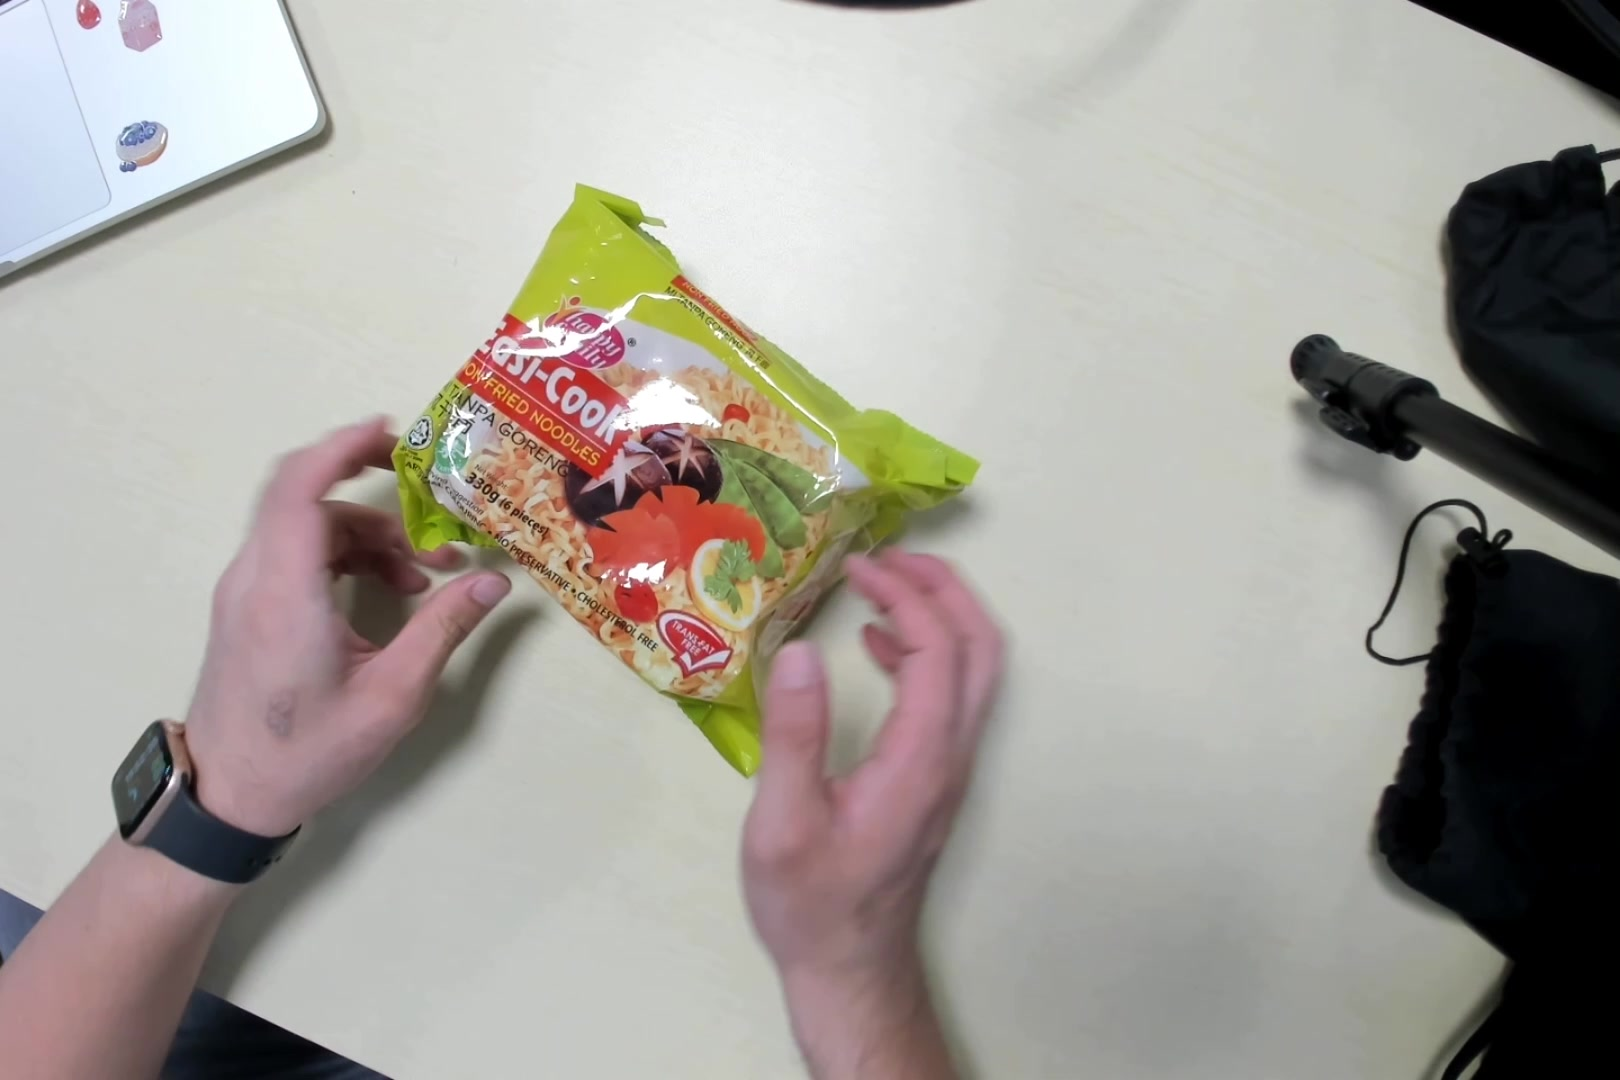OtherNoodles_300-399g_Halal_NonHealthy: (385, 205, 980, 757)
